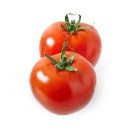tomato: (30, 52, 99, 115), (40, 20, 103, 67)
